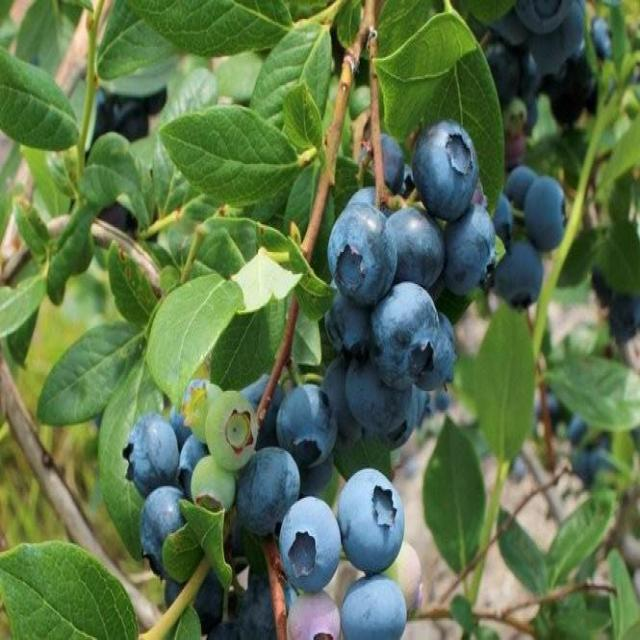BlueBerry - v1: (331, 460, 413, 583), (407, 110, 487, 234), (324, 190, 404, 309), (370, 278, 446, 394), (274, 488, 346, 602), (134, 478, 202, 592), (435, 192, 504, 304), (342, 347, 422, 442), (116, 404, 186, 510), (234, 439, 306, 542), (272, 375, 342, 474), (384, 198, 448, 298), (314, 352, 374, 456), (158, 552, 229, 639), (319, 266, 382, 364), (337, 565, 416, 640), (233, 362, 292, 461), (488, 226, 549, 320), (203, 384, 265, 473), (527, 0, 591, 85), (522, 167, 572, 261), (385, 529, 430, 627), (230, 571, 290, 640), (364, 121, 411, 206), (178, 426, 220, 508), (188, 454, 240, 518), (186, 373, 226, 444), (512, 0, 577, 37), (497, 157, 540, 212)
